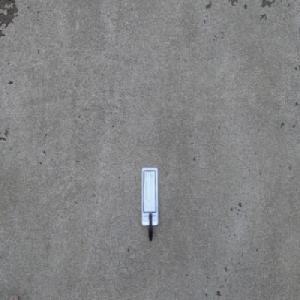LuggageTag: (140, 165, 159, 242)
